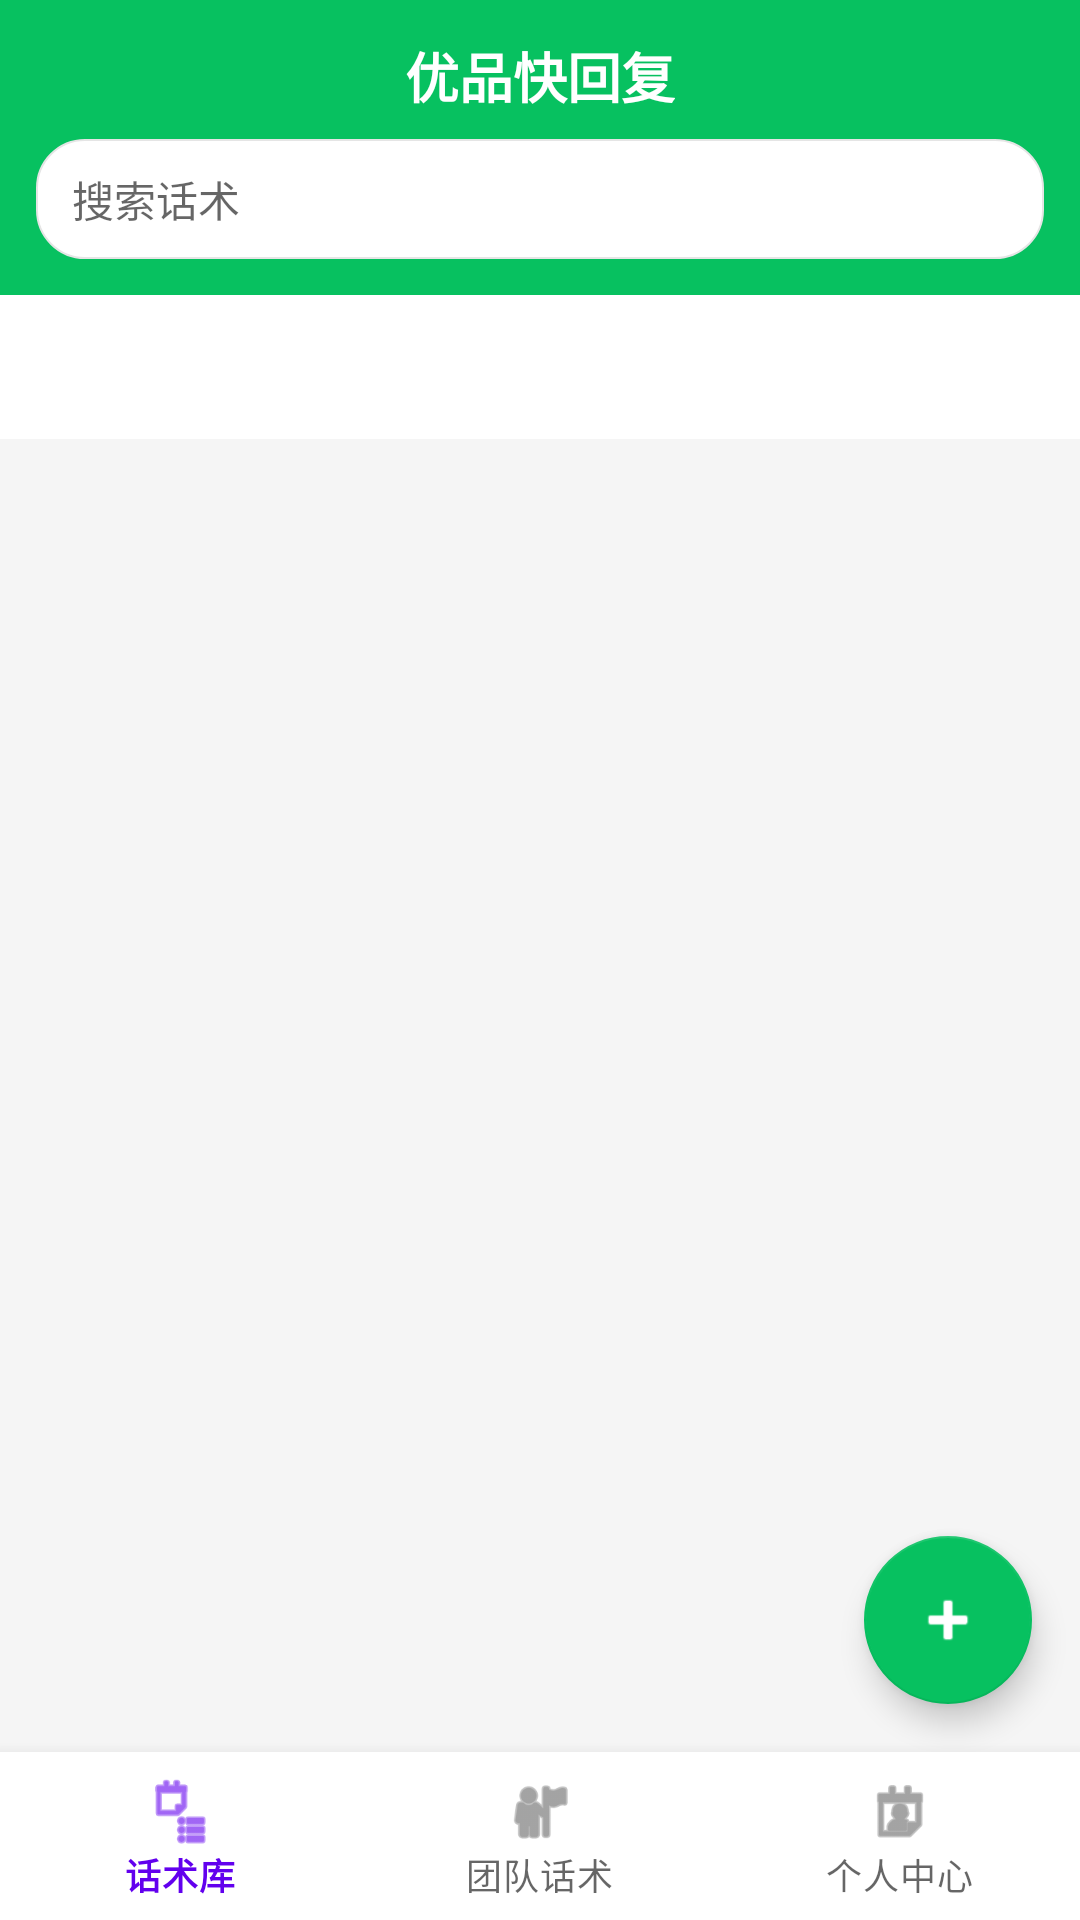

Where icons sit on this 1080px×1920px app screen, as (left=x1, top=y1, right=x2, bottom=y2):
add: (left=864, top=1536, right=1032, bottom=1704)
